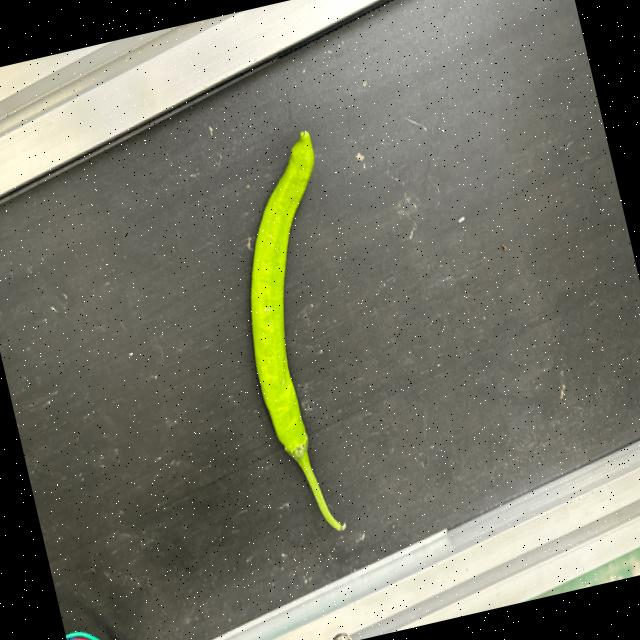chili: (247, 128, 314, 462)
